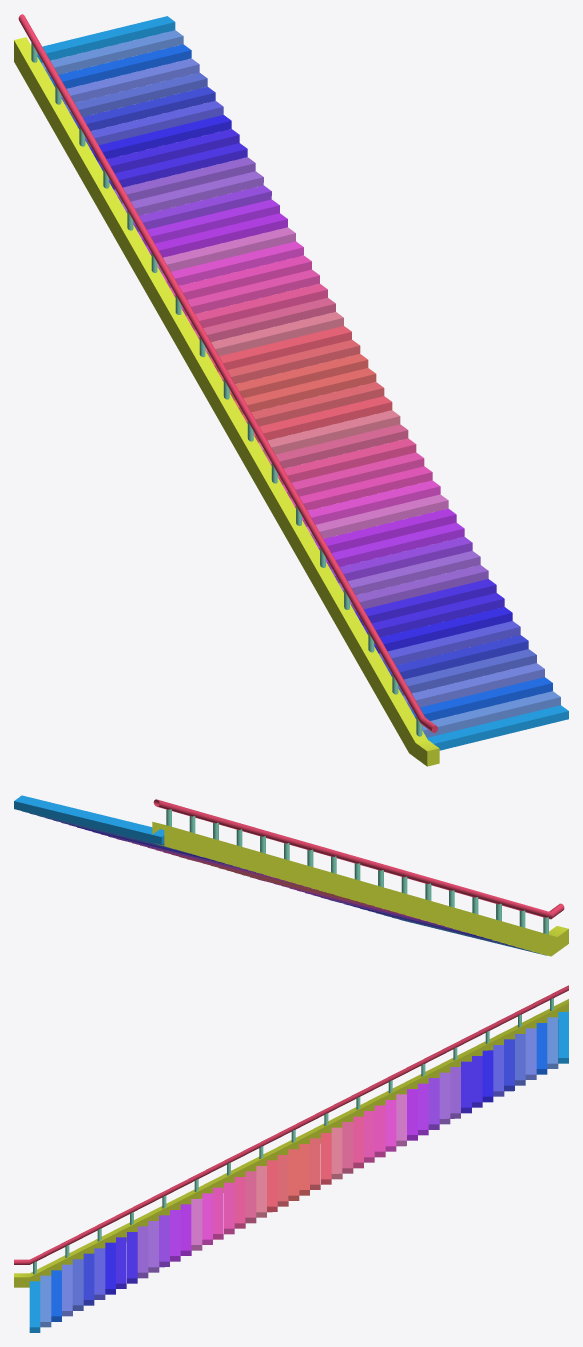
File: Stairs_Start3.fbx
The picture shows the model from 3 angles, top to bottom: view 1: azimuth 30°, elevation 25°; view 2: azimuth 150°, elevation 25°; view 3: azimuth 270°, elevation 25°; orthographic projection. The views are drawn at different scales.
Parts seen in each view (by area): view 1: Stairs_Start.001; view 2: Stairs_Start.001; view 3: Stairs_Start.001.
Part boxes in pixels (box(x1,y1,x2,y2)): Stairs_Start.001: box(14, 14, 568, 766); Stairs_Start.001: box(14, 795, 568, 956); Stairs_Start.001: box(14, 985, 568, 1332).
Size of the model in its own units: 2.46 by 6.86 by 11.47.
